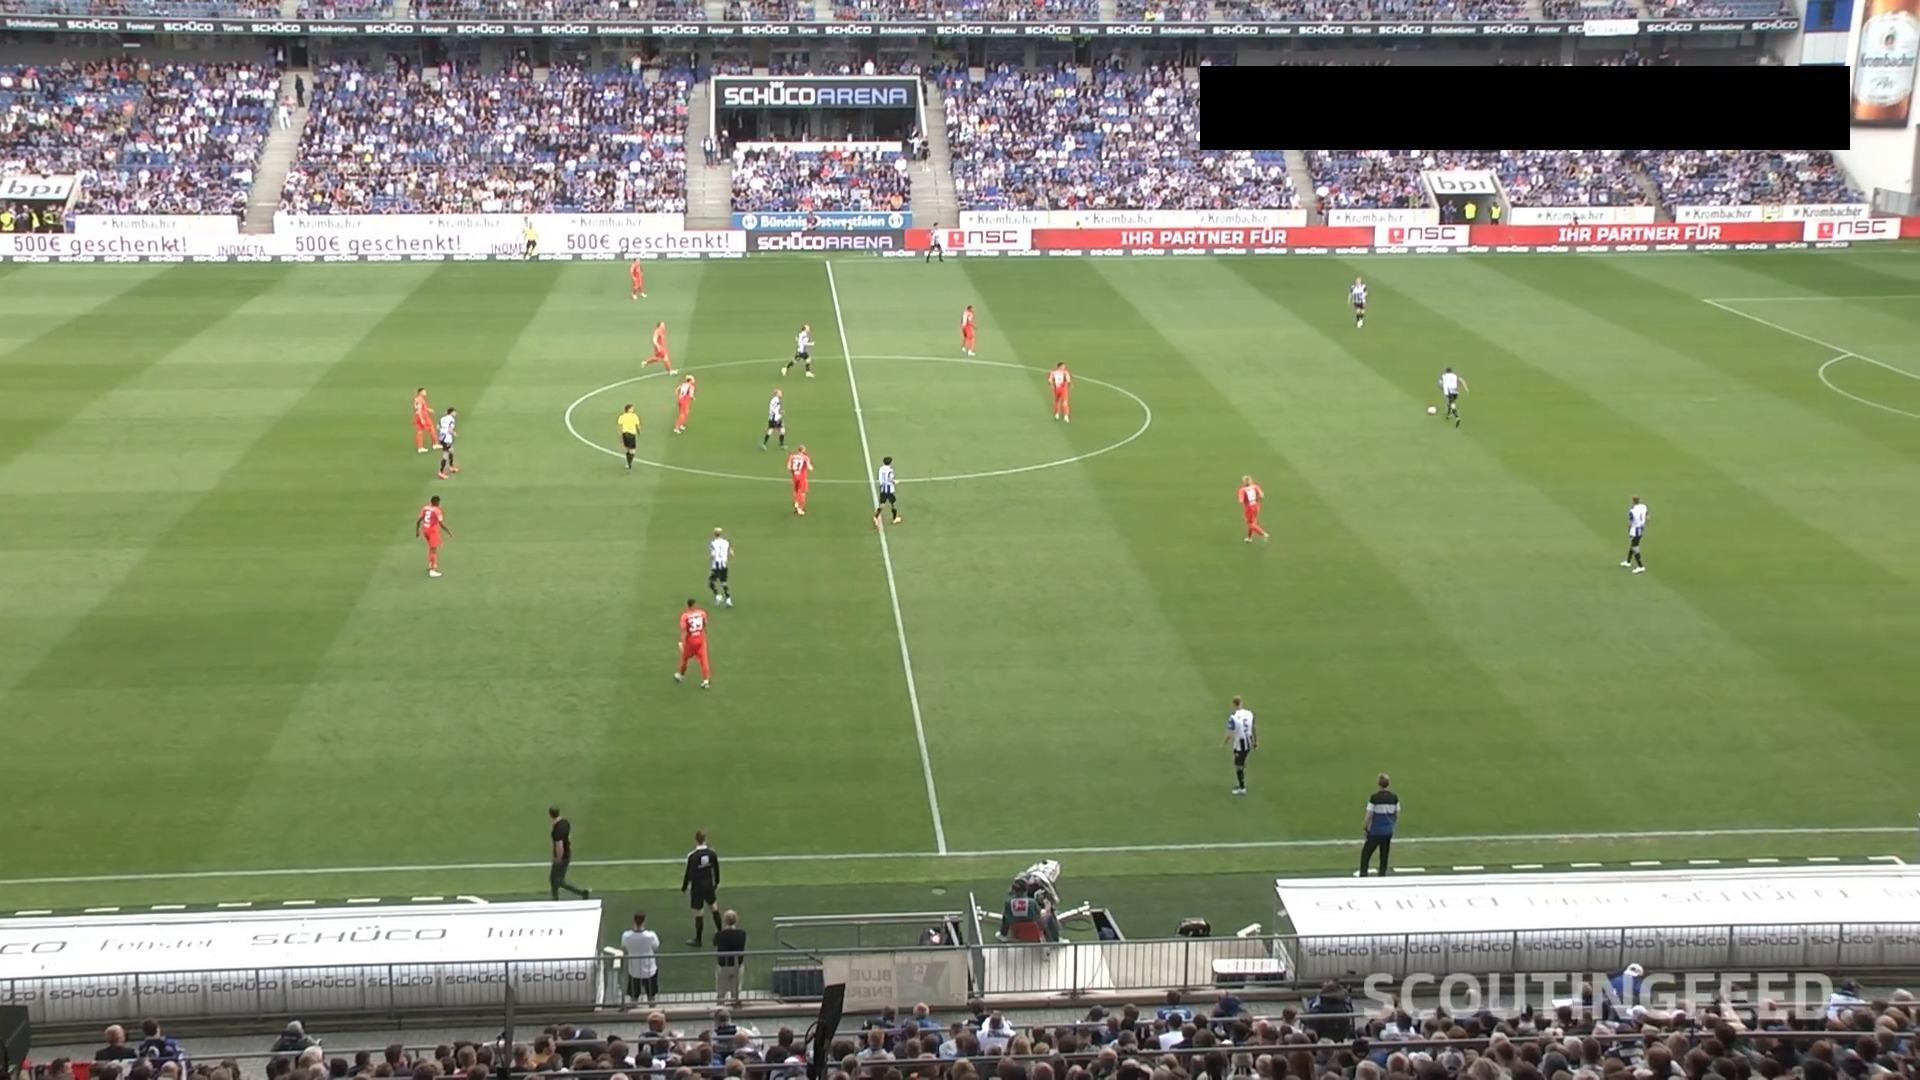ball: (1427, 404, 1439, 415)
